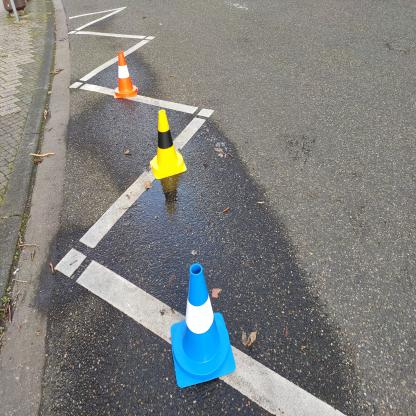Cones_small_blue: (164, 259, 245, 393)
Cones_small_orange: (107, 46, 141, 98)
Cones_small_yellow: (144, 105, 194, 188)
